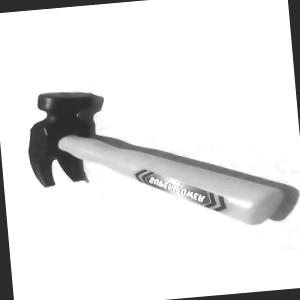martelo: (19, 70, 289, 246)
